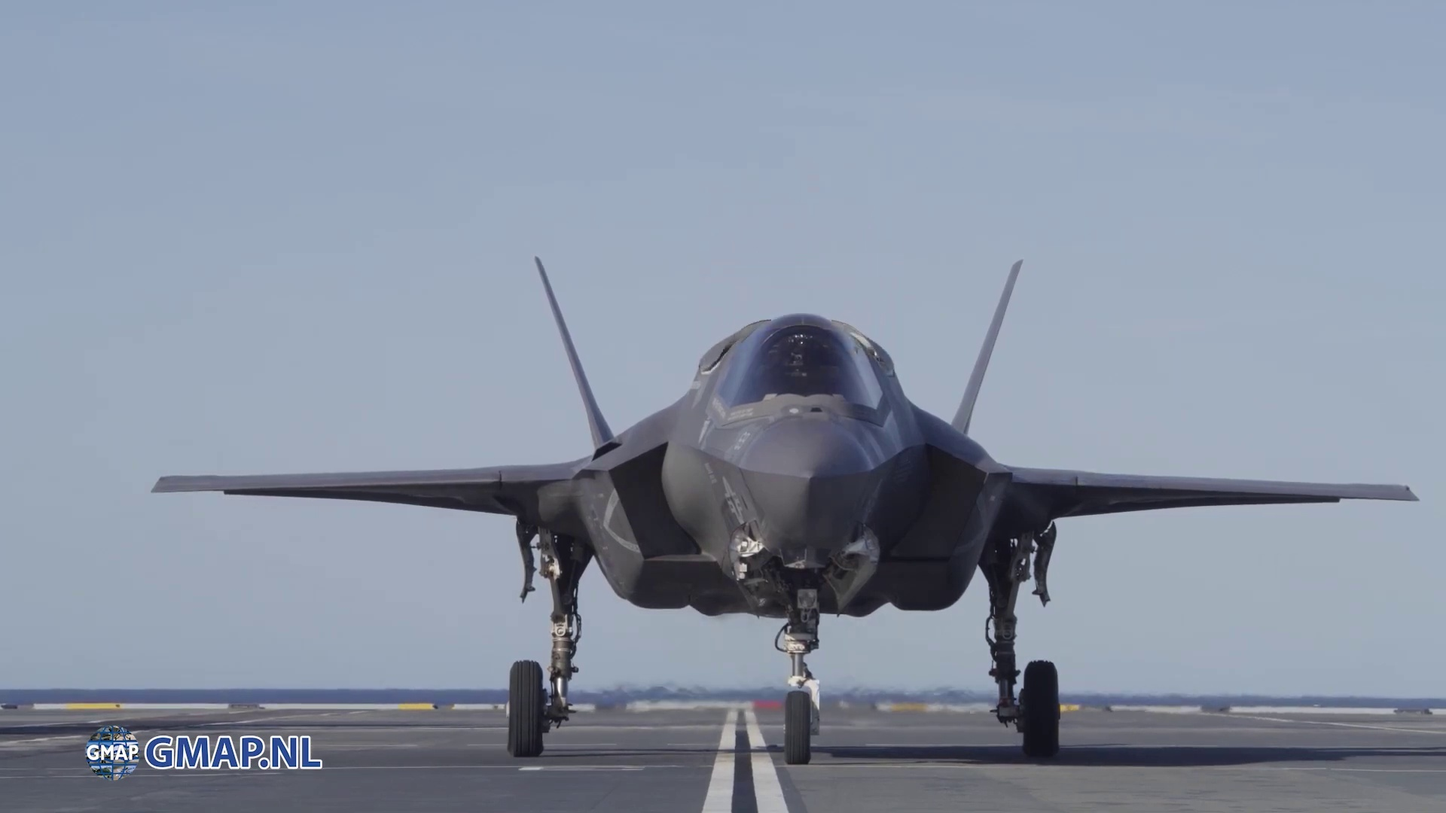F35: (147, 252, 1426, 770)
